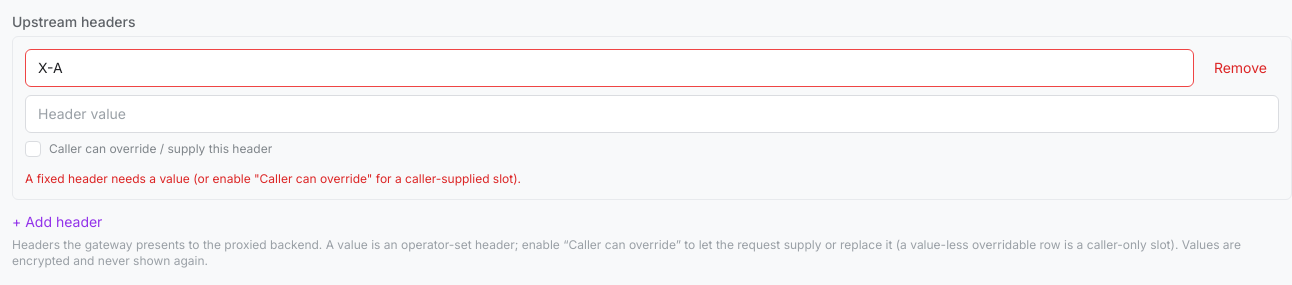
UpstreamHeadersField › toggles the overridable flag
Expected: the text "fixed header needs a value" is shown, [25,171,521,186]
Click the checkbox: (33,149) [25,141,41,157]
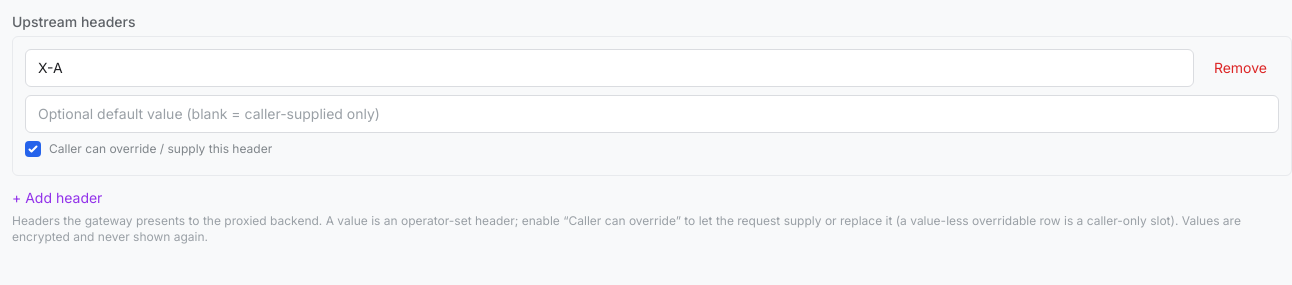
Expected: the text "fixed header needs a value" is gone
